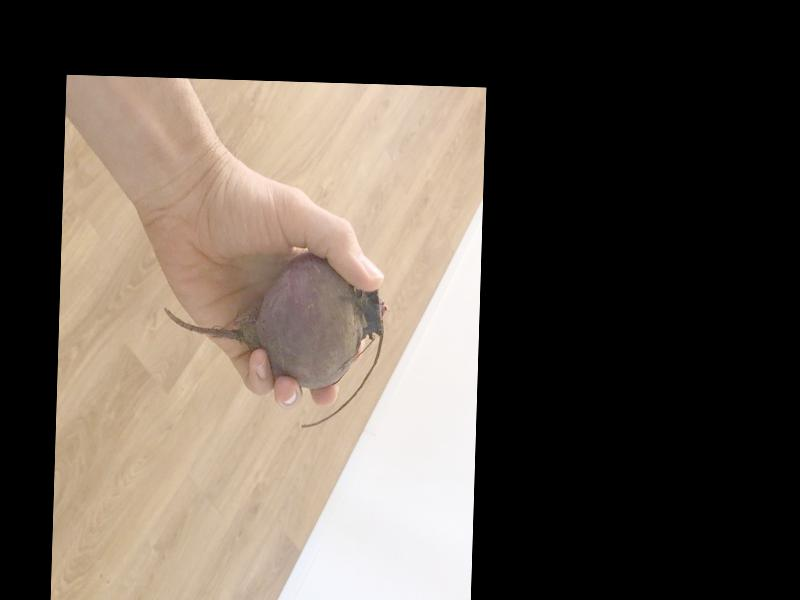Beet: (162, 249, 390, 432)
